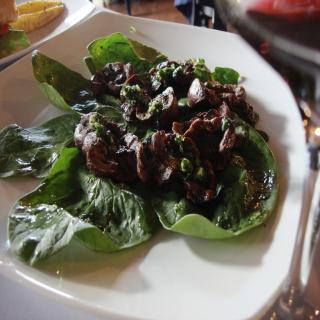Salad: (0, 30, 279, 266)
